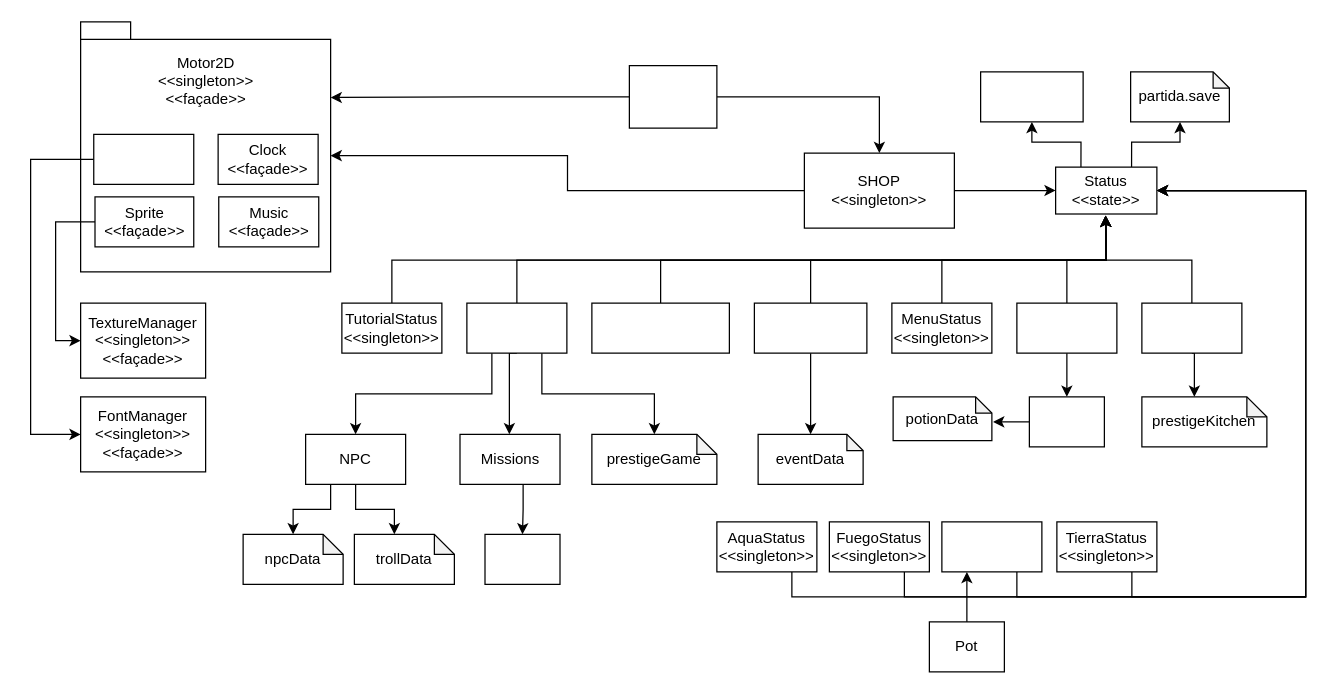
This 1338x694 diagram has some shape labels left out. Each missing label, with the centre of its shape:
"AireStatus <<singleton>>" goes at (991,546).
"Alert" goes at (1031,96).
"EndMenuStatus <<singleton>>" goes at (810,327).
"GameStatus <<singleton>>" goes at (516,327).
"KitchenStatus <<singleton>>" goes at (1191,327).
"LibroStatus <<singleton>>" goes at (1066,327).
"MAIN" goes at (672,96).
"MenuInGameStatus <<singleton>>" goes at (660,327).
"Mission" goes at (522,558).
"Pocion" goes at (1066,421).
"Text <<façade>>" goes at (143,158).
